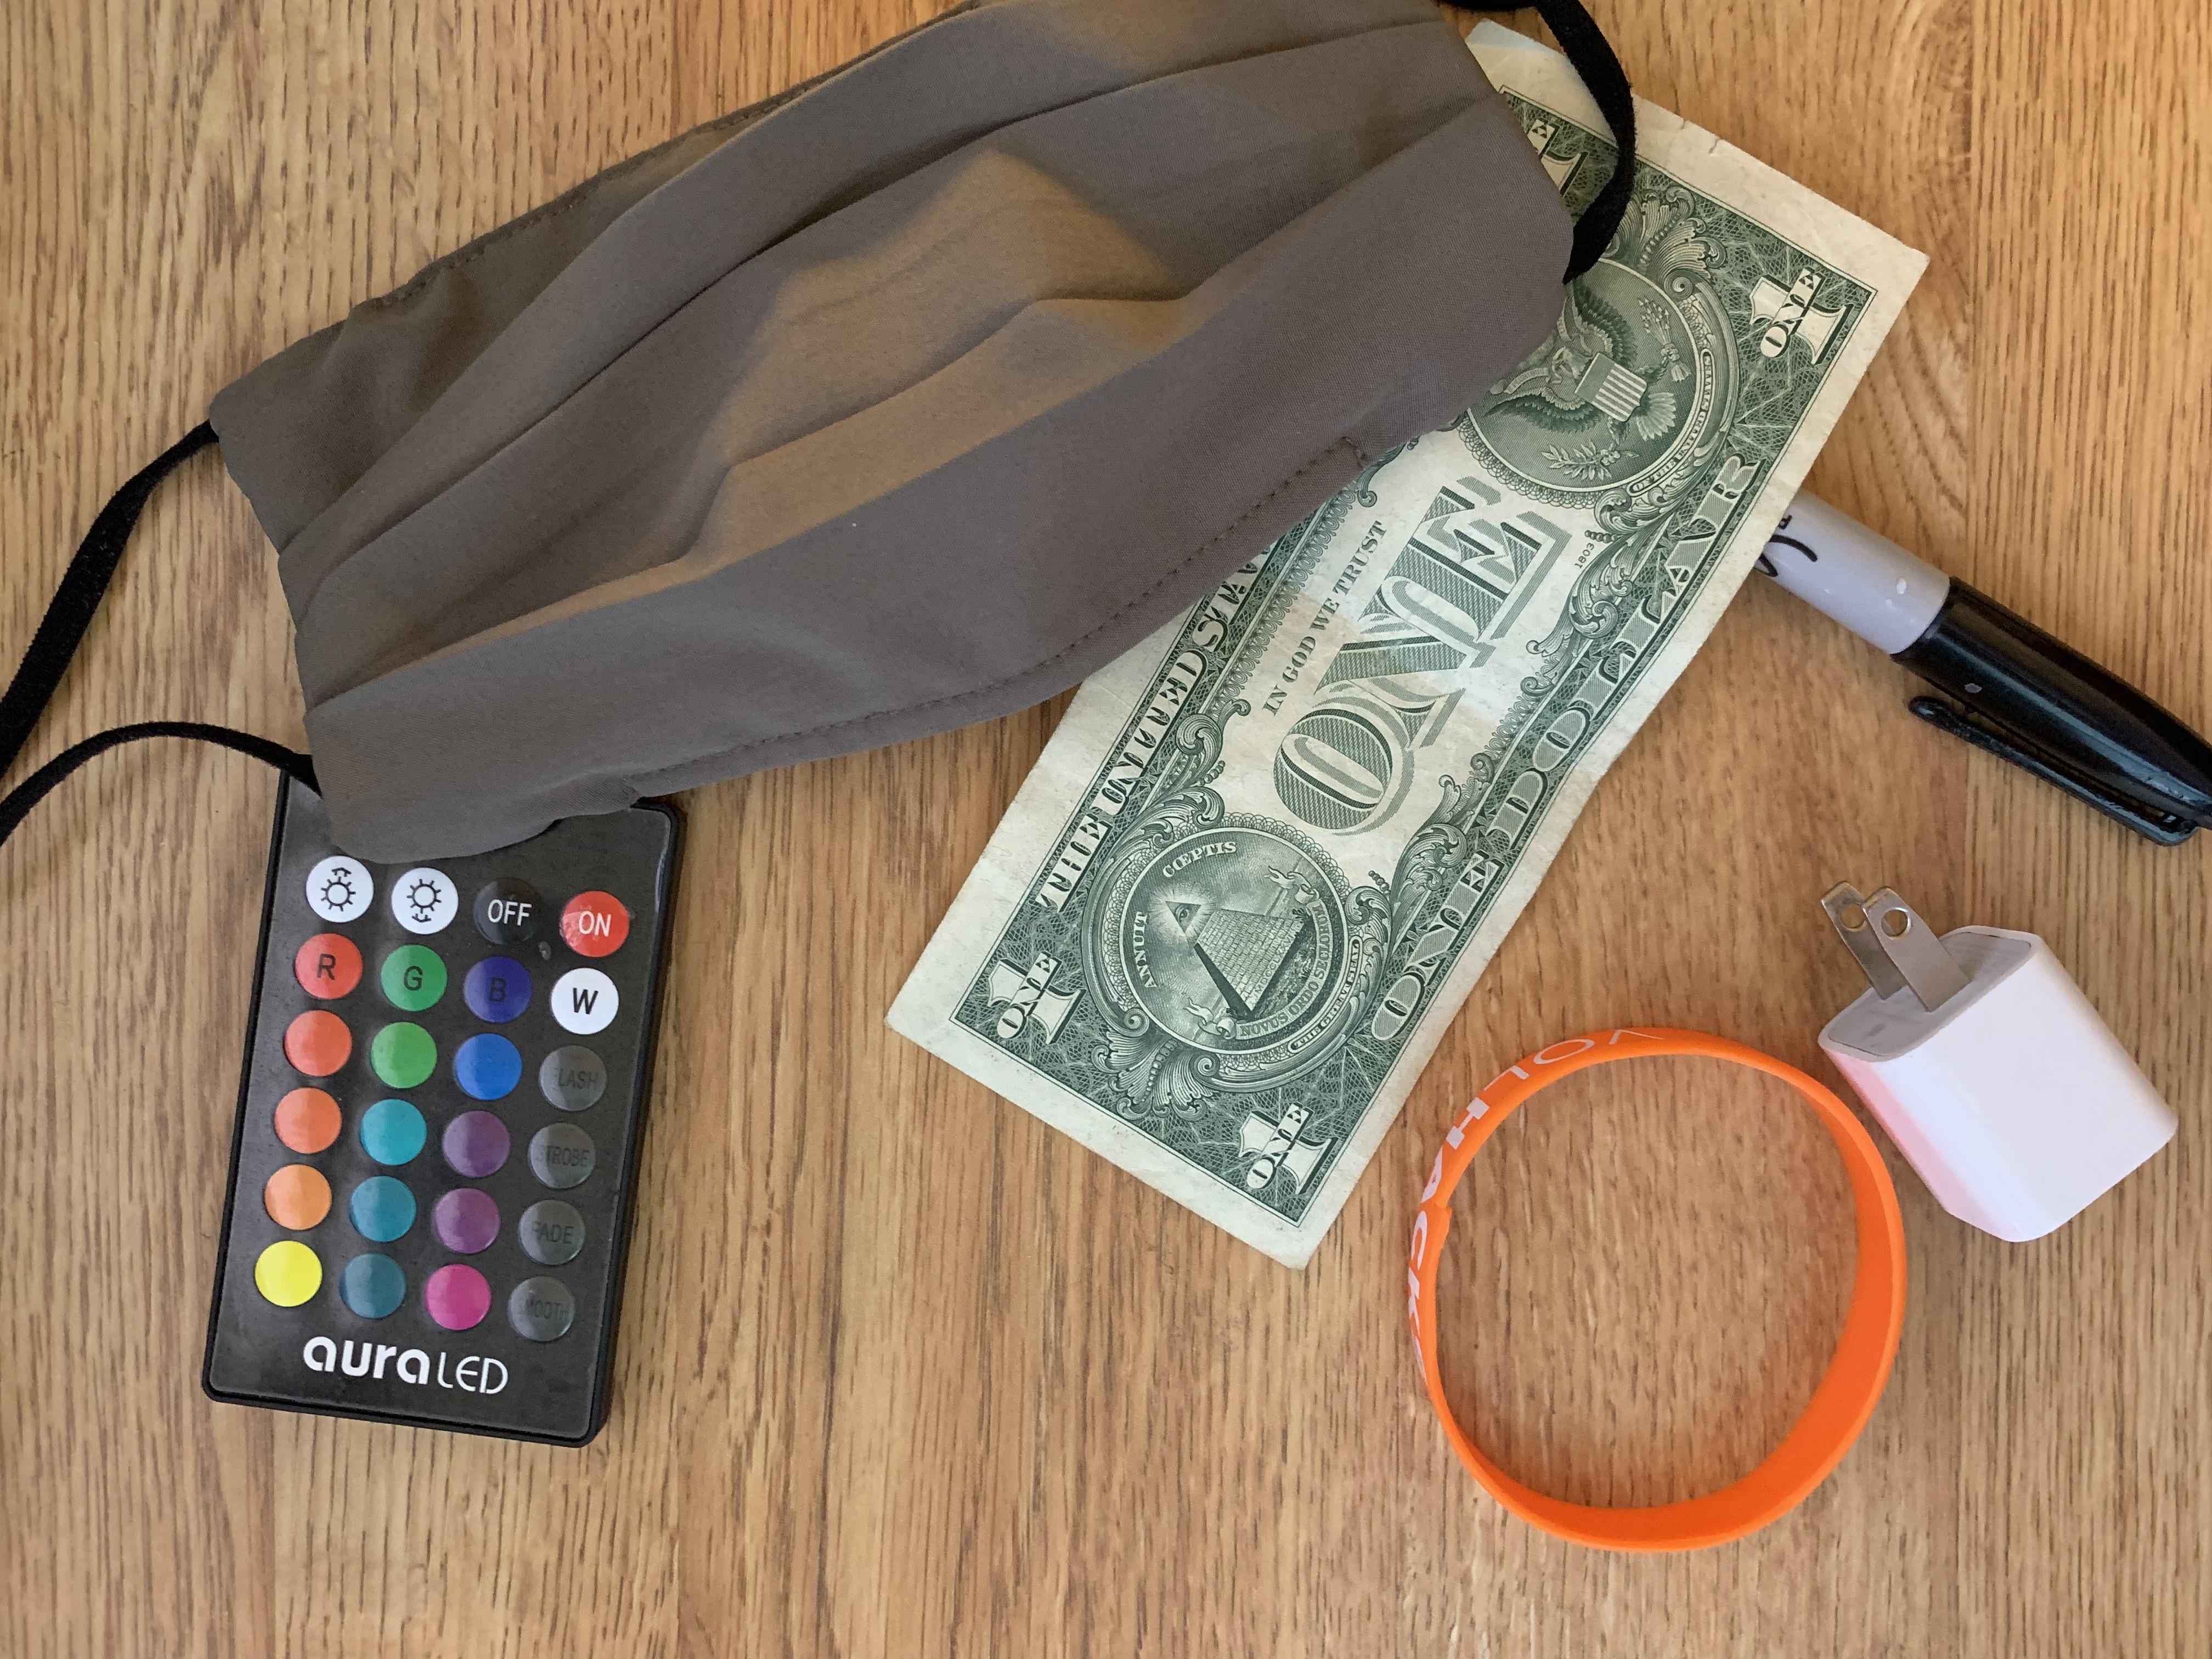OneBill: (880, 17, 1942, 1272)
